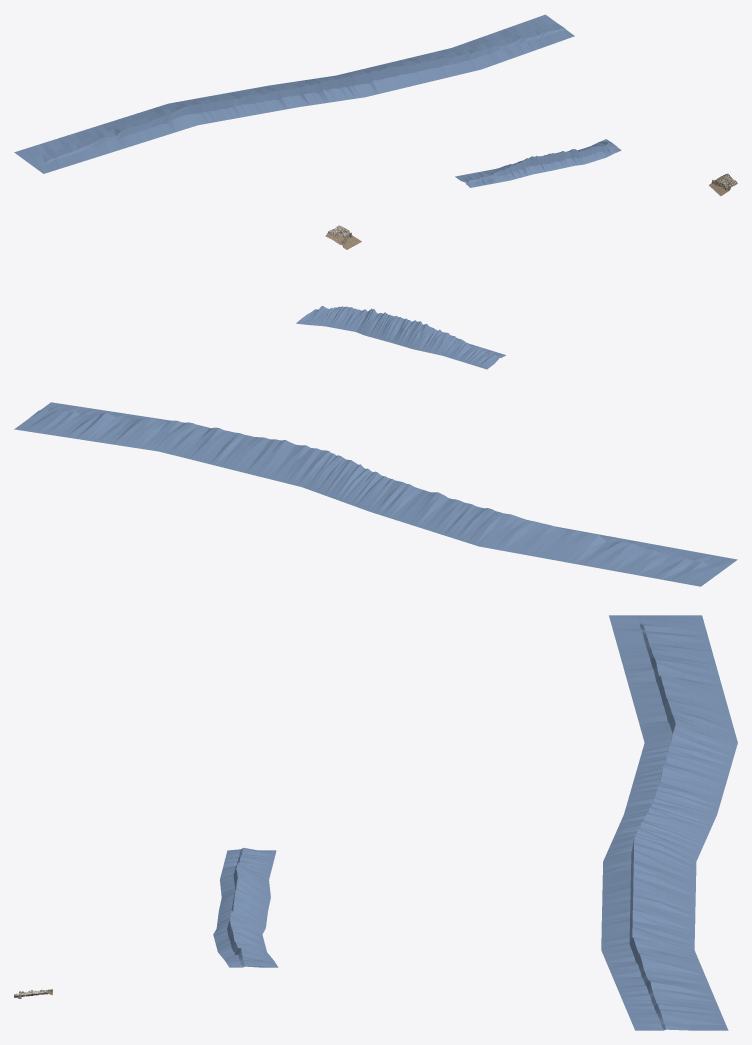
Rendered from santorini_oia_lite-DMIgdbrR.glb.
3 renders of one model, top to bottom at view 1: azimuth 30°, elevation 25°; view 2: azimuth 150°, elevation 25°; view 3: azimuth 270°, elevation 25°, orthographic. The views are drawn at different scales.
Parts seen in each view (by area): view 1: Thirasia | broken cliff outline; view 2: Thirasia | broken cliff outline; view 3: Thirasia | broken cliff outline.
Boxes of the visible parts, x1,y1,x2,y2 form: Thirasia | broken cliff outline: (14, 14, 621, 187); Thirasia | broken cliff outline: (14, 306, 737, 586); Thirasia | broken cliff outline: (213, 615, 737, 1030).
Size of the model in its own units: 5210 by 173 by 3838.
Materials: 68 (50 with a texture image).
